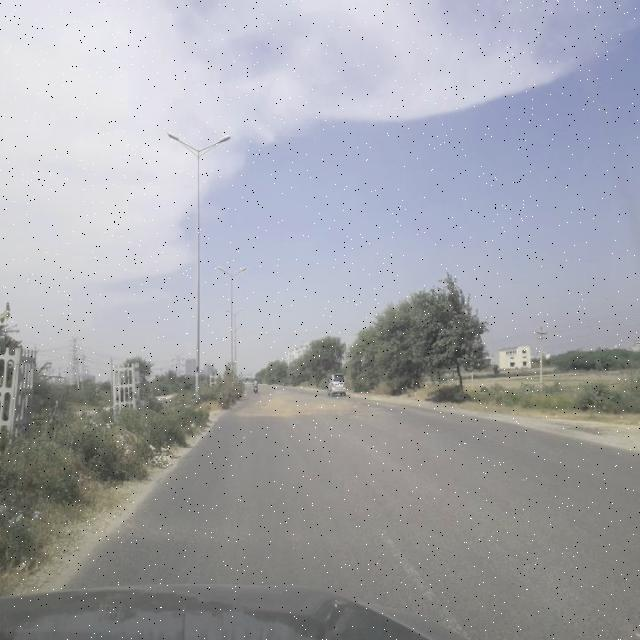D40: (225, 390, 379, 428)
D44: (371, 521, 473, 632)
